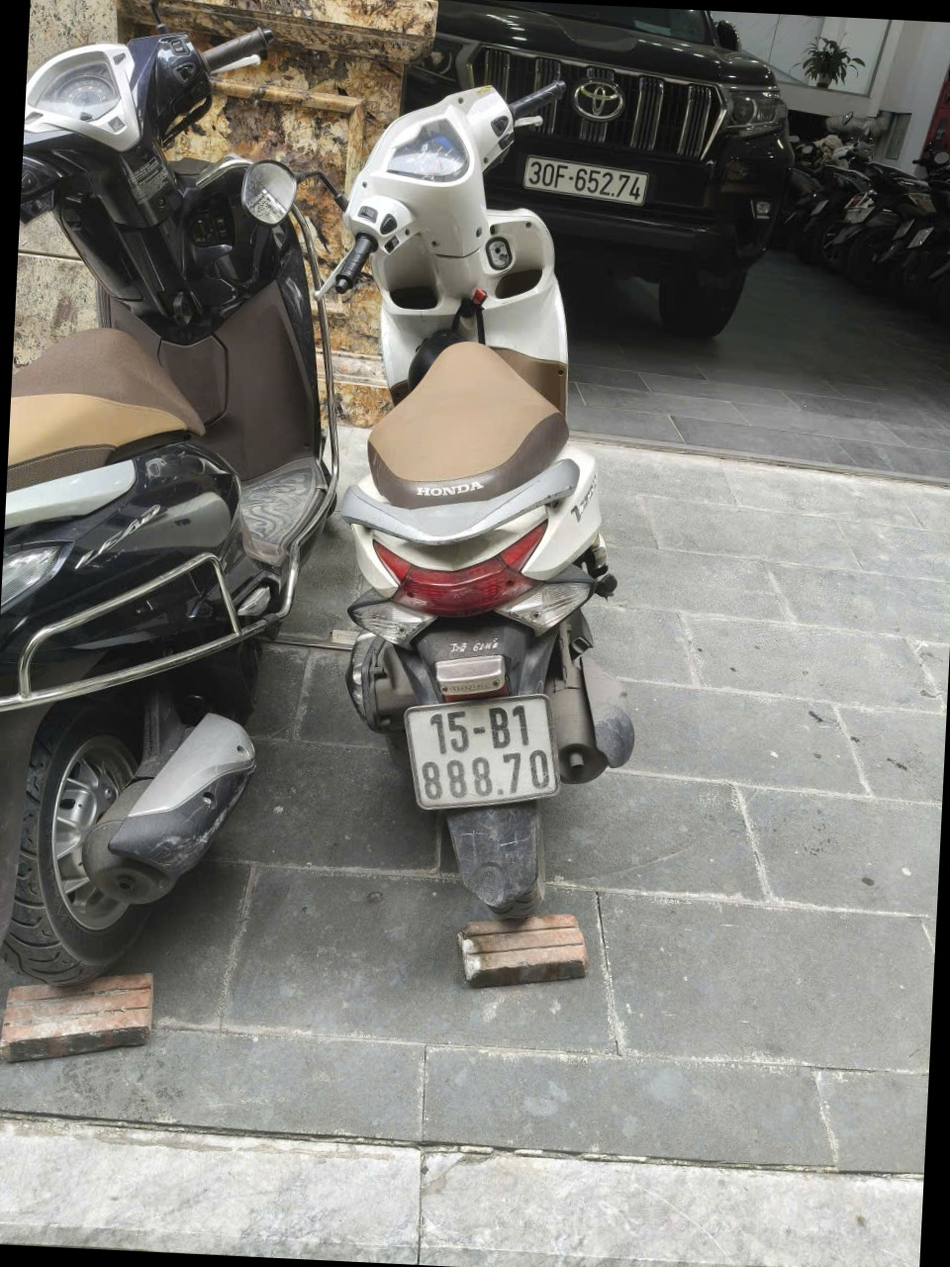plate: (516, 7, 680, 38)
